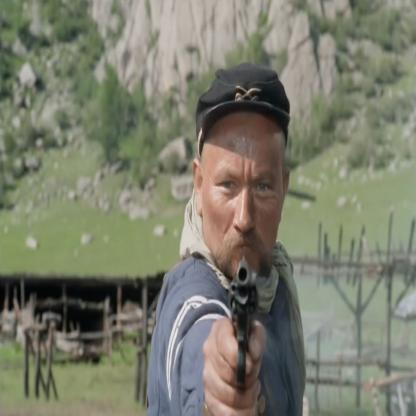gun: (229, 241, 259, 380)
